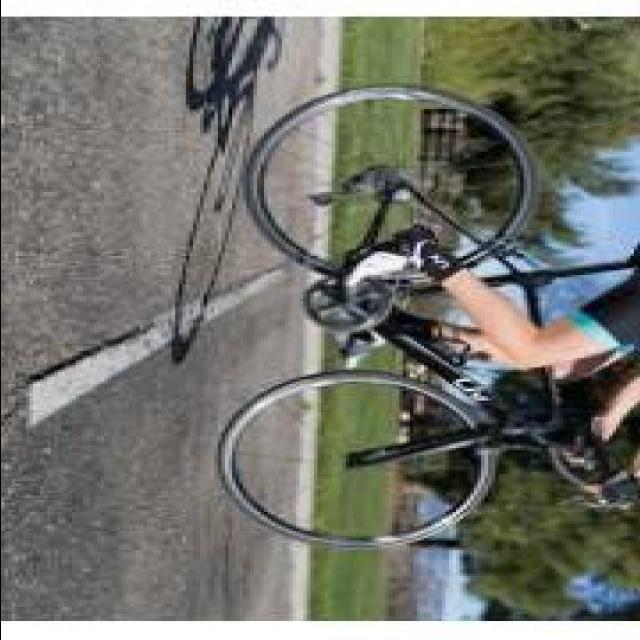bicycle: (200, 110, 620, 551)
